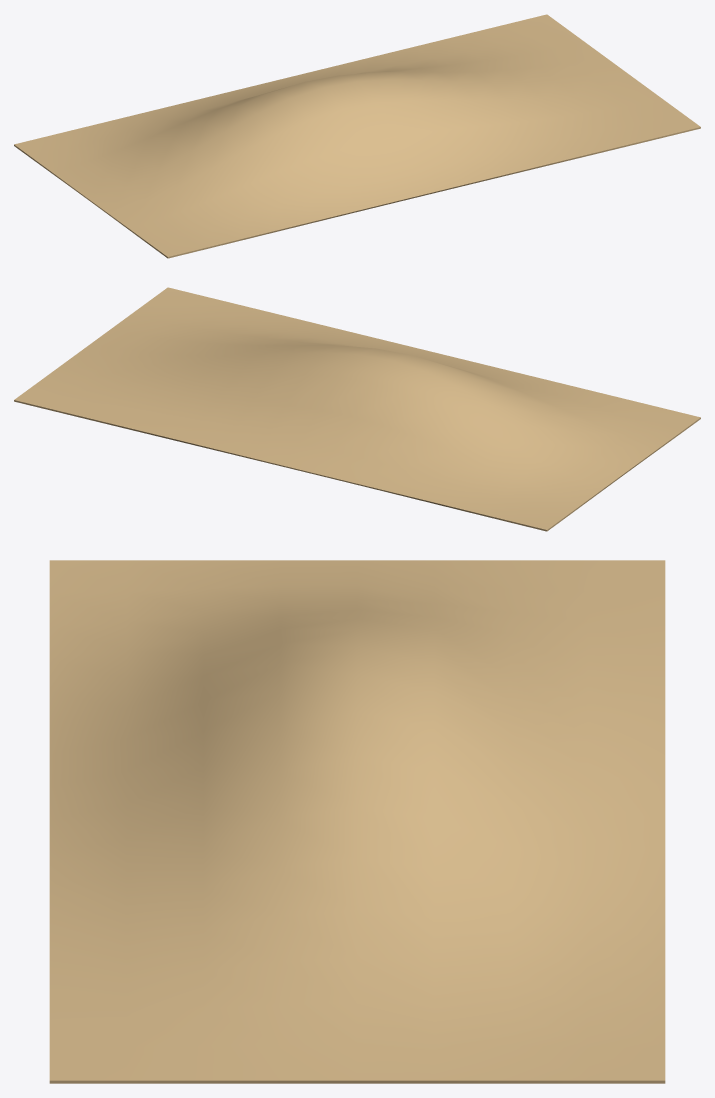
Rendered from deco_decal_sand_drift.fbx.
The picture shows the model from 3 angles, top to bottom: view 1: azimuth 30°, elevation 25°; view 2: azimuth 150°, elevation 25°; view 3: azimuth 270°, elevation 25°; orthographic projection. The views are drawn at different scales.
Visible parts, largest first — view 1: Decal_SandDrift_Drift; view 2: Decal_SandDrift_Drift; view 3: Decal_SandDrift_Drift.
Part boxes in pixels (<box>): Decal_SandDrift_Drift: <box>14,14,700,258</box>; Decal_SandDrift_Drift: <box>14,287,700,531</box>; Decal_SandDrift_Drift: <box>49,560,665,1083</box>.
Bounding box in the file's own units: 320 × 33.11 × 160.
